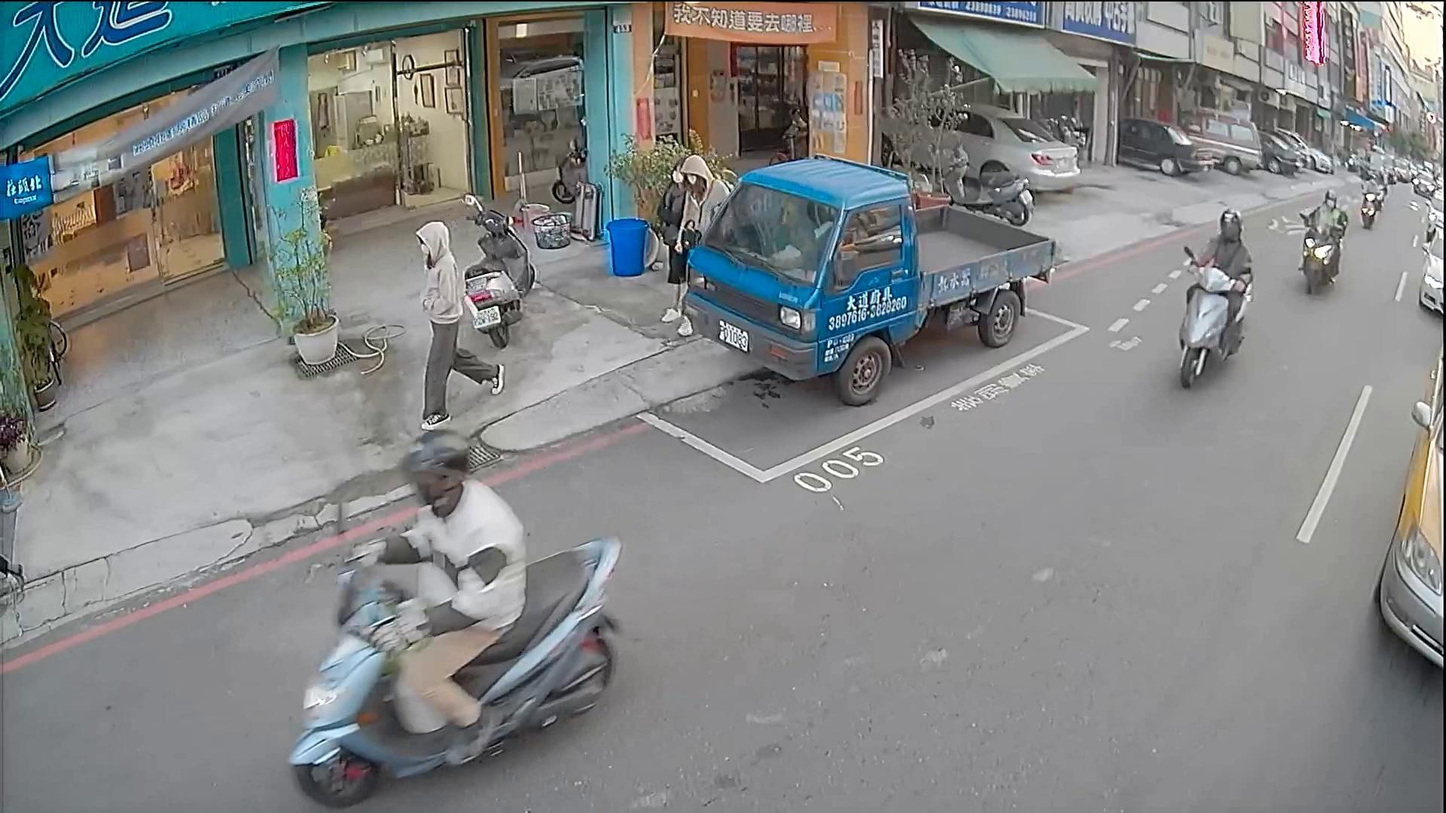person: (325, 434, 526, 767), (410, 213, 509, 435), (664, 153, 737, 331), (1179, 207, 1252, 367), (653, 157, 703, 324), (1295, 187, 1348, 288), (1359, 169, 1378, 194)
